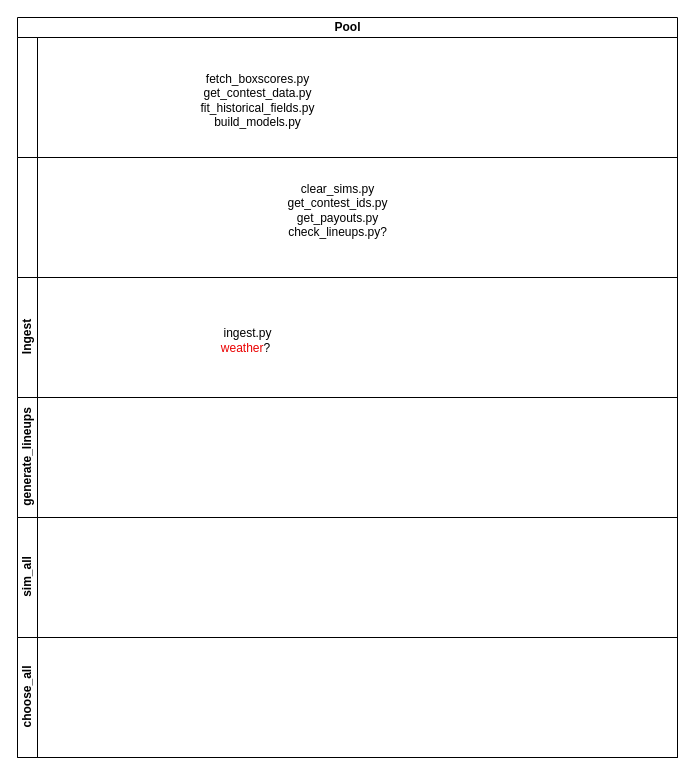
The diagram is 695 pixels wide and 775 high, and some of its shapes have lost their labels. The box of each missing label's shape, as (x1, y1, x2, y2) in pixels:
ensure_db: (16, 156, 678, 278)
Overnight process: (16, 36, 678, 158)
